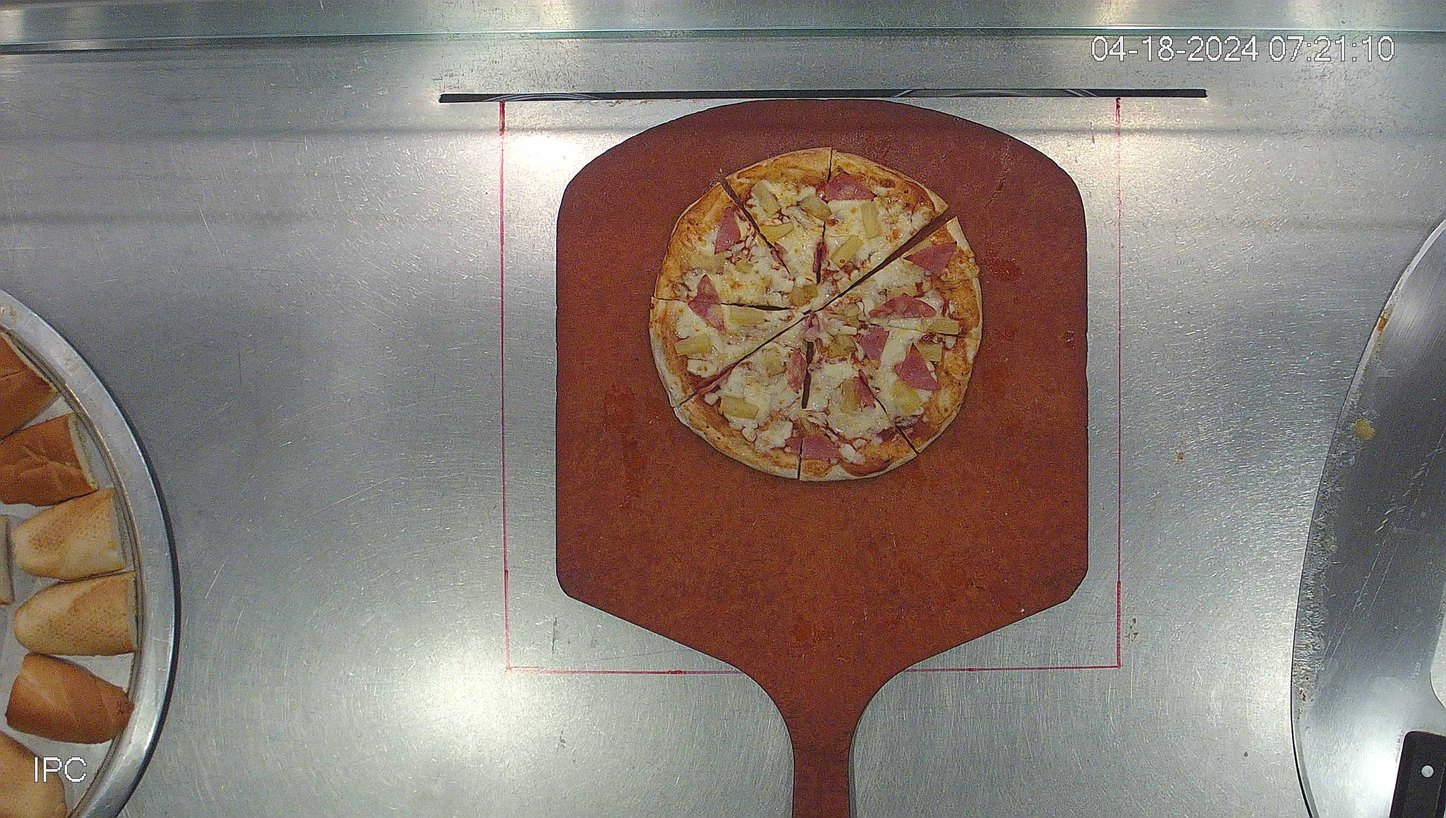manager_choice: (650, 145, 982, 480)
